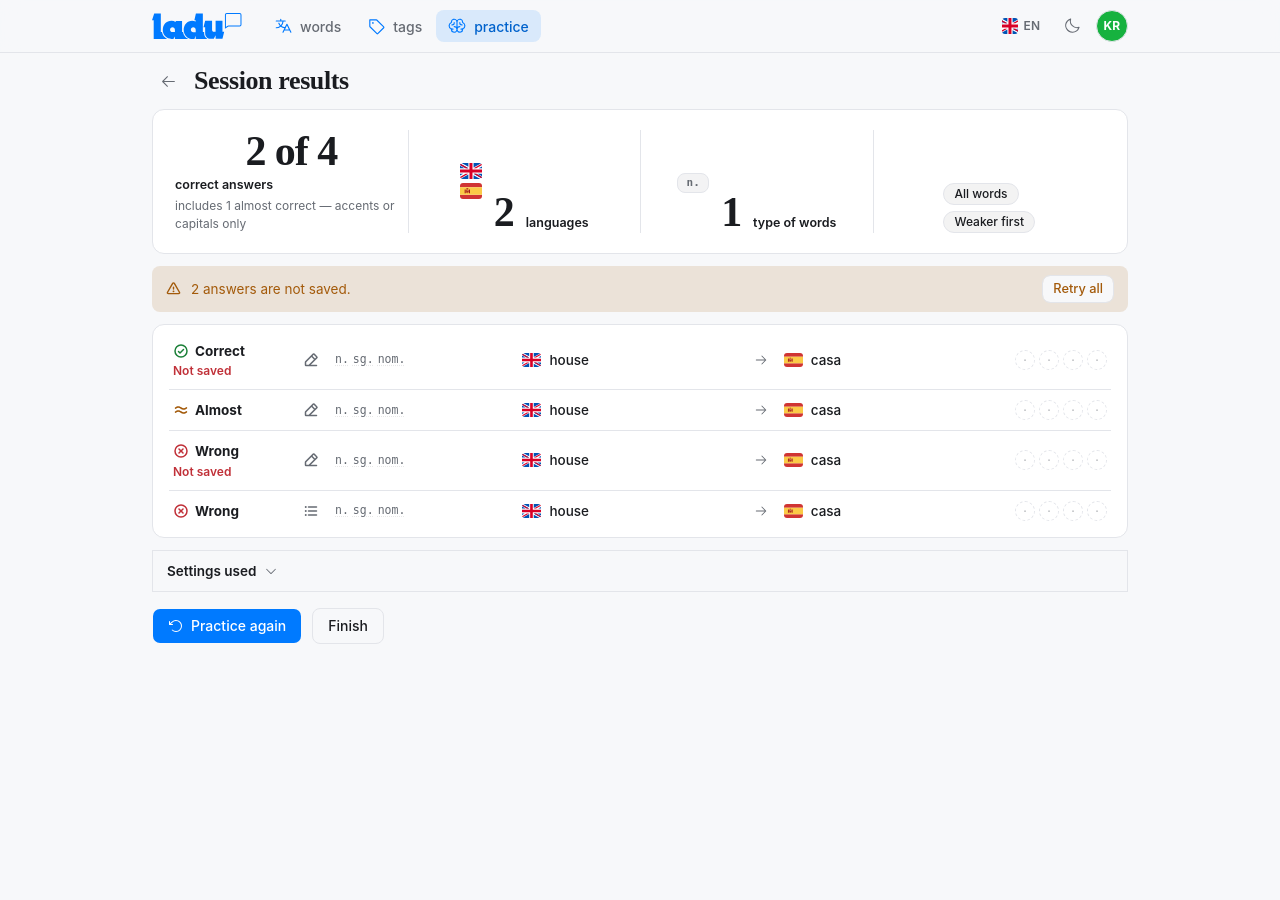
Test case: ResultsView › warns about unsaved answers and retries them all
Expected: the text "2 answers are not saved." is shown, 191,281 -> 351,297
Click the button "Retry all" at x=1078, y=289, box 1042,275 -> 1114,303
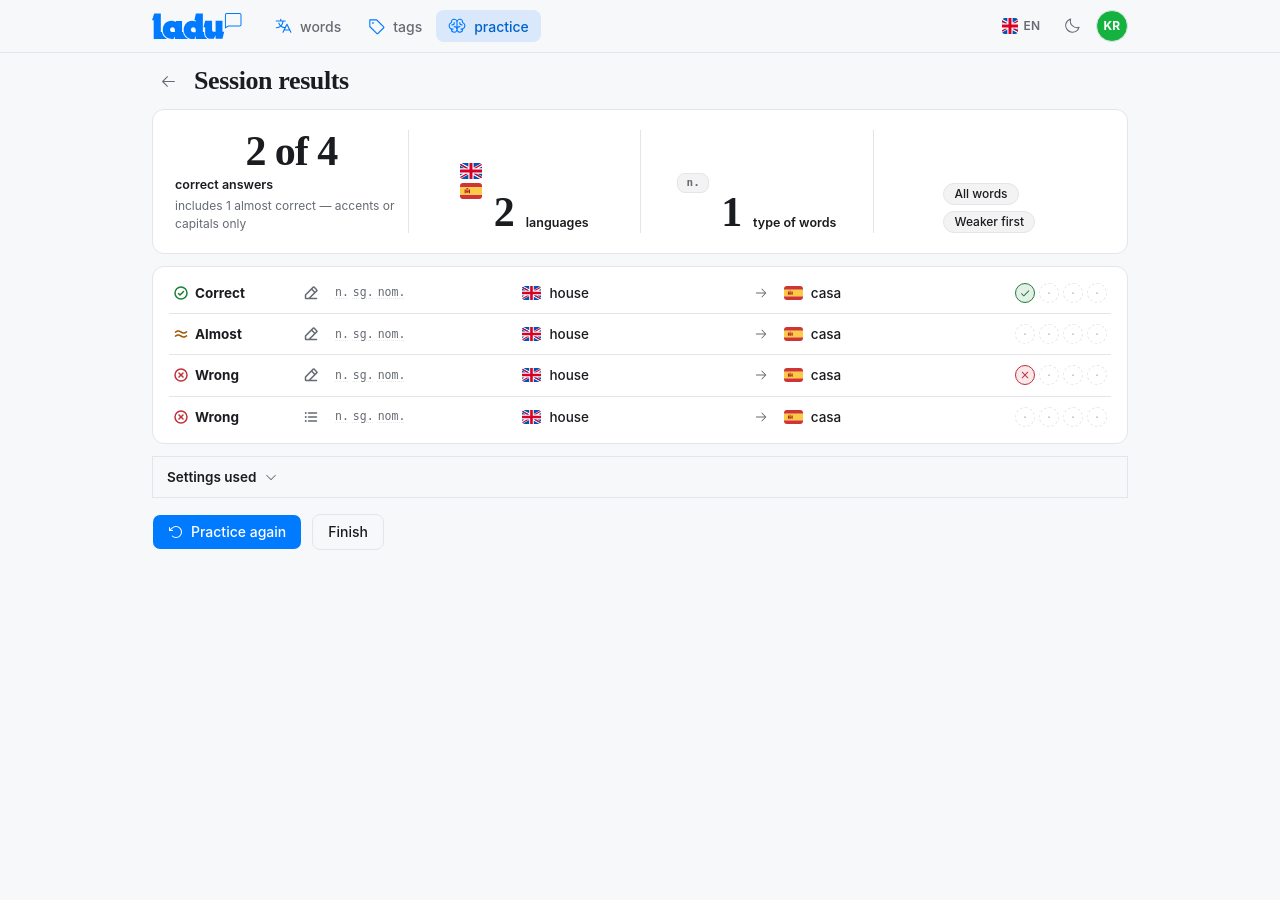
Now the text "are not saved" is gone
